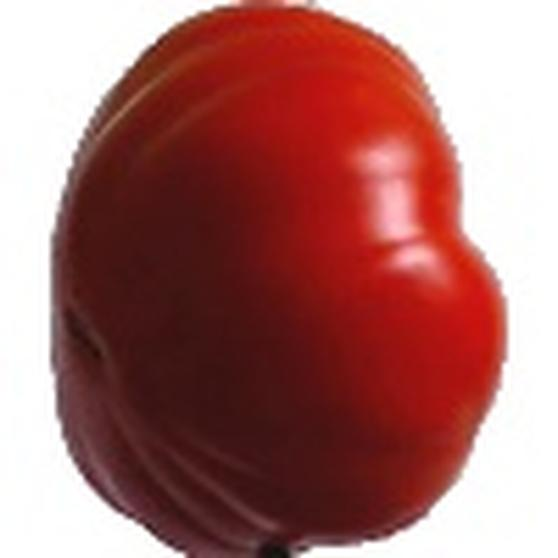tomato: (50, 2, 513, 558)
